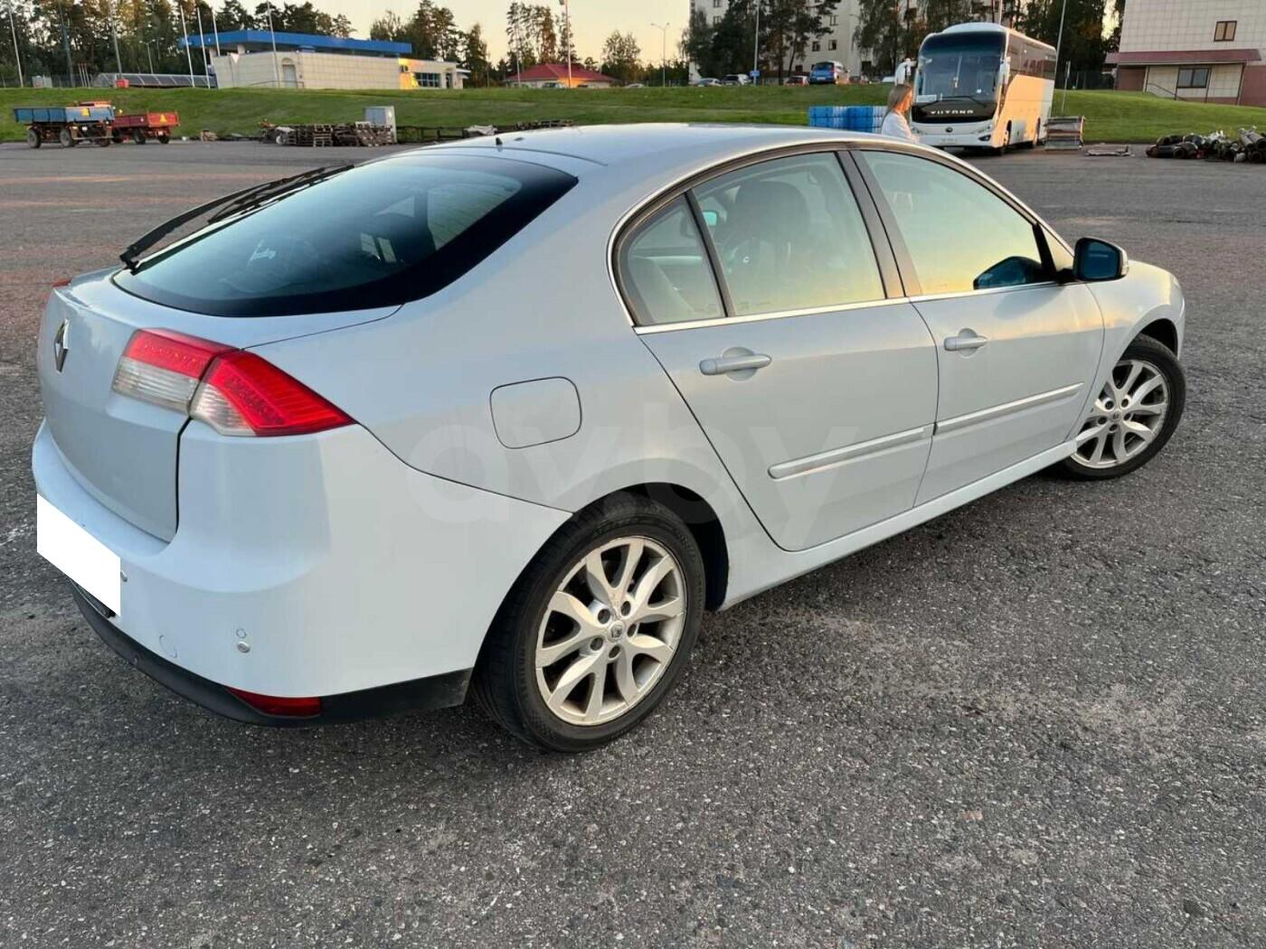Laguna_2007-2011: (31, 125, 1188, 750)
